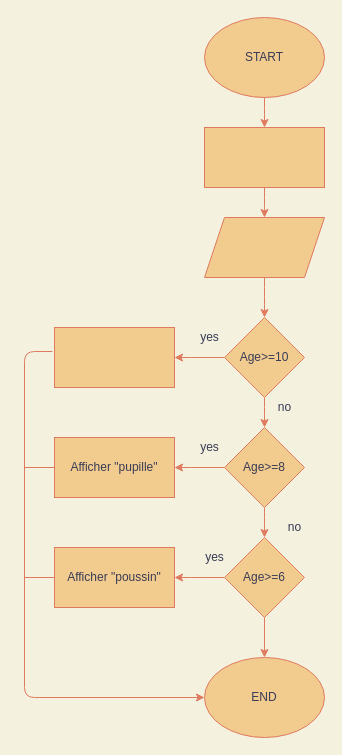
Some shapes in this 342 by 755 pixel diagram are drawn without their labels. Each missing label, with the centre of its shape:
Afficher "minime": point (114, 357)
Demander "quel est votre âge?": point (264, 157)
Lire âge: point (264, 247)
